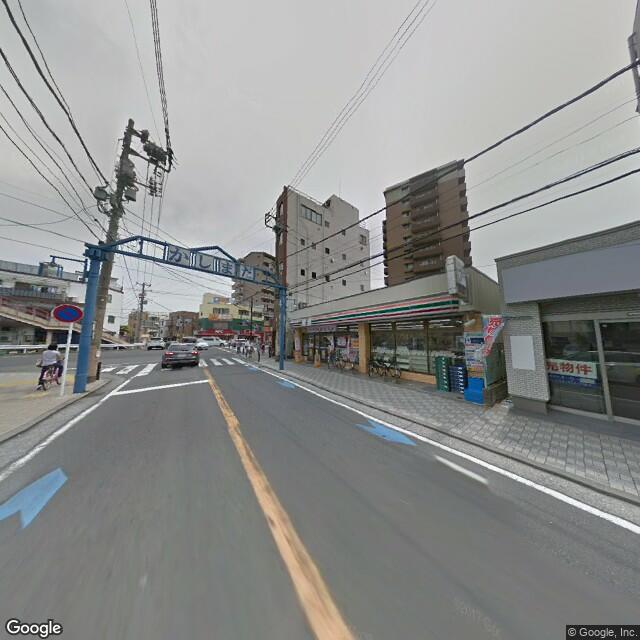7-eleven: (289, 290, 461, 330)
